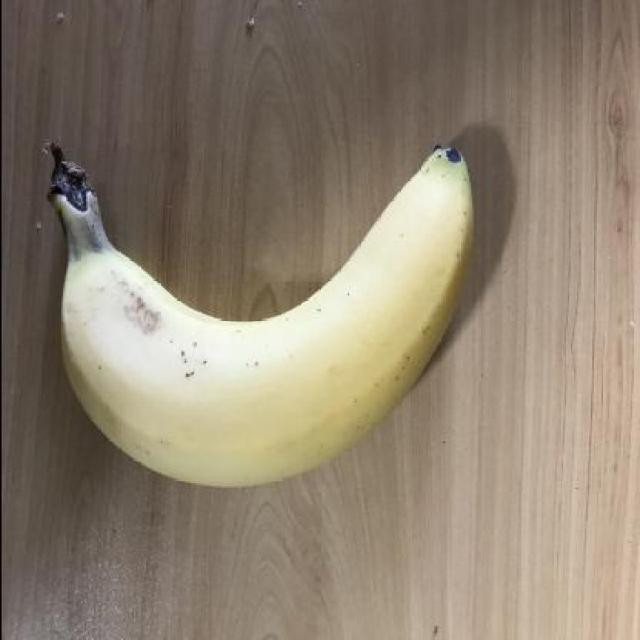Banana: (40, 136, 486, 496)
